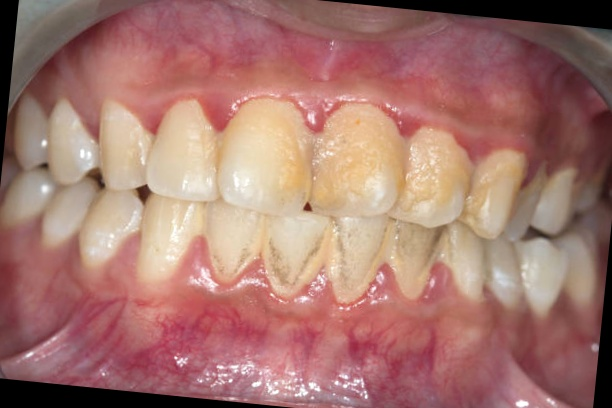Gingivitis: (99, 304, 271, 394), (335, 309, 442, 397), (274, 315, 326, 389), (296, 85, 343, 136), (206, 84, 245, 133), (395, 102, 424, 141)
